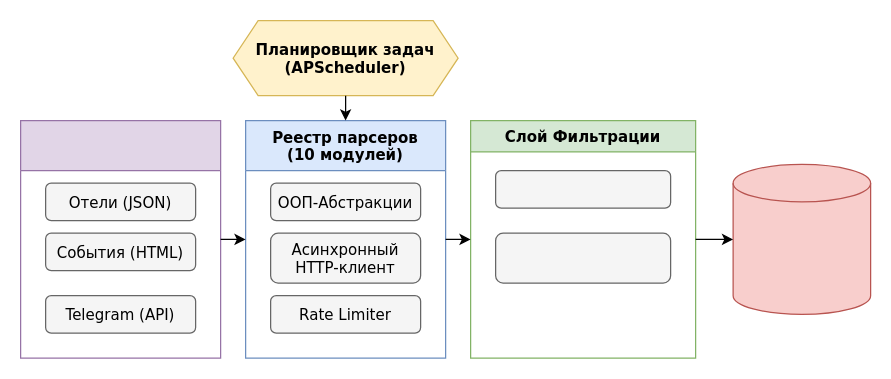
Image size: 891x379. Some labels were removed from this diagram. The box of each missing label's shape, as (x1, y1, x2, y2) in pixels:
11 Внешних Источников: (19, 119, 221, 358)
LLM Агент (Очистка): (494, 169, 671, 208)
PostgreSQL 16: (732, 163, 871, 314)
Строгая Валидация (Pydantic Models): (494, 232, 671, 283)
